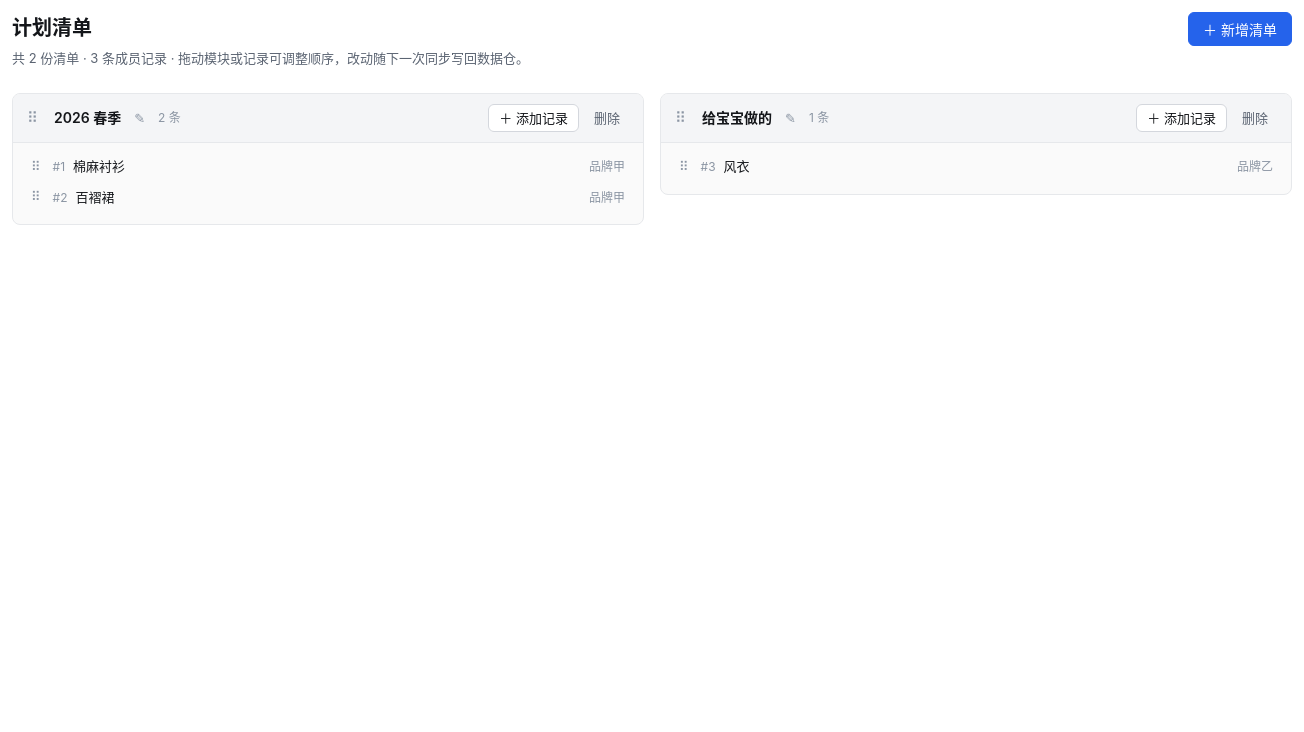
Test: v6.8/v6.9 · 条目移出清单（右键菜单为唯一入口） › 右键菜单点遮罩关闭，不触发移出
The width and height of the screenshot is (1304, 732).
Right-click the list item with test id "iw-plan-card-row-p1-1": coordinates (99, 166) [31,158,625,174]
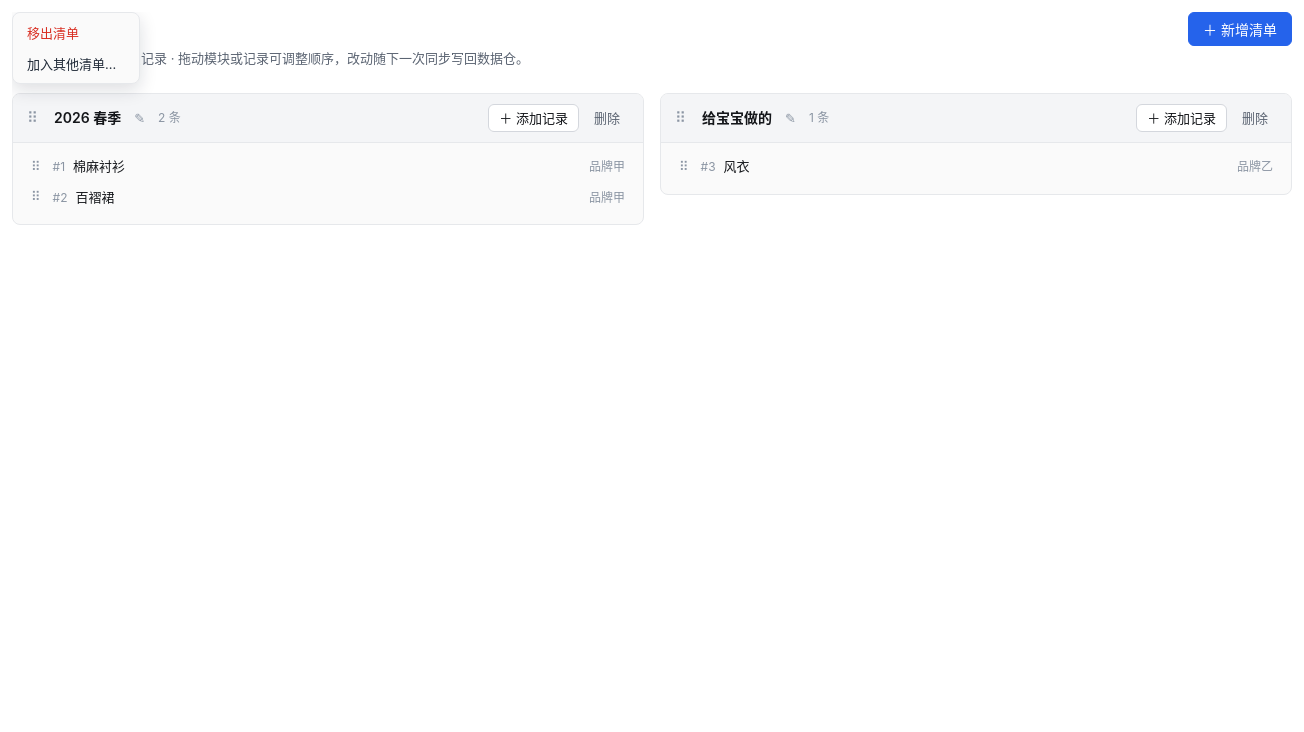
Click the element with test id "iw-plan-ctx-overlay": coordinates (652, 372) [12,12,1292,731]
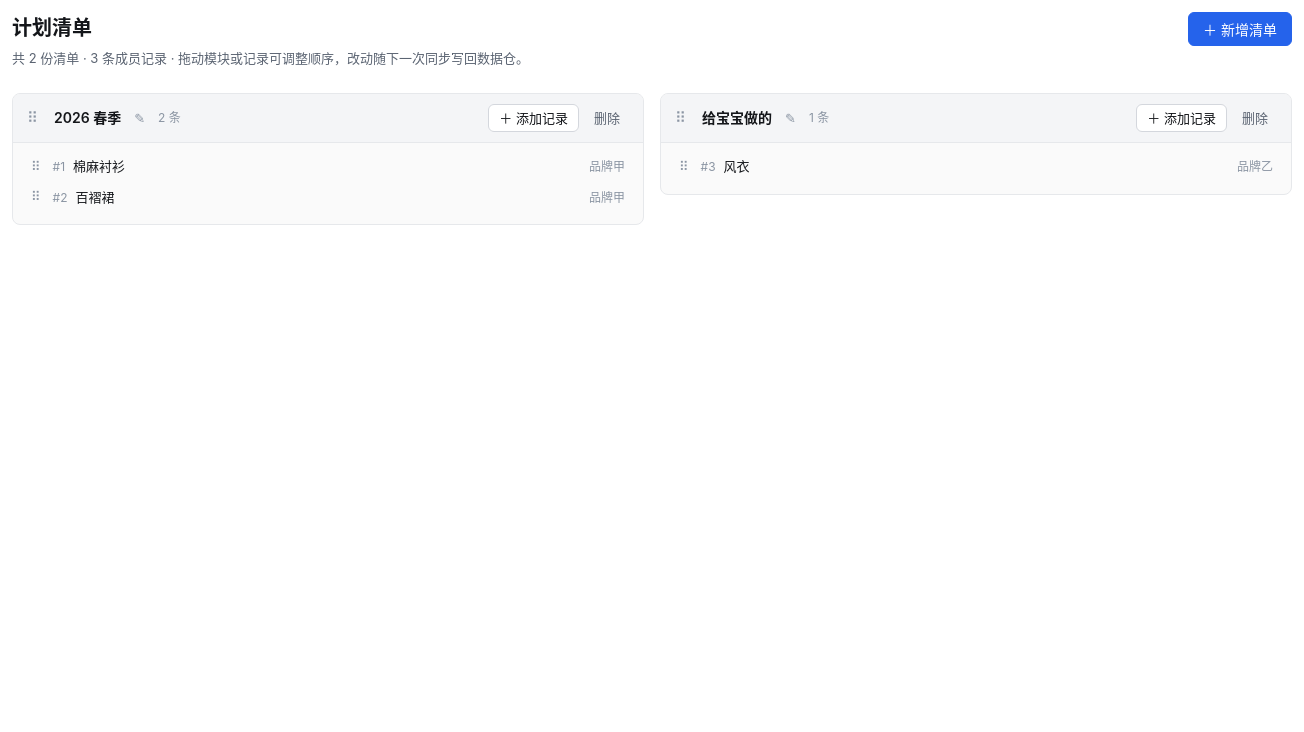
Result: the menu with test id "iw-plan-ctx-menu" is gone
